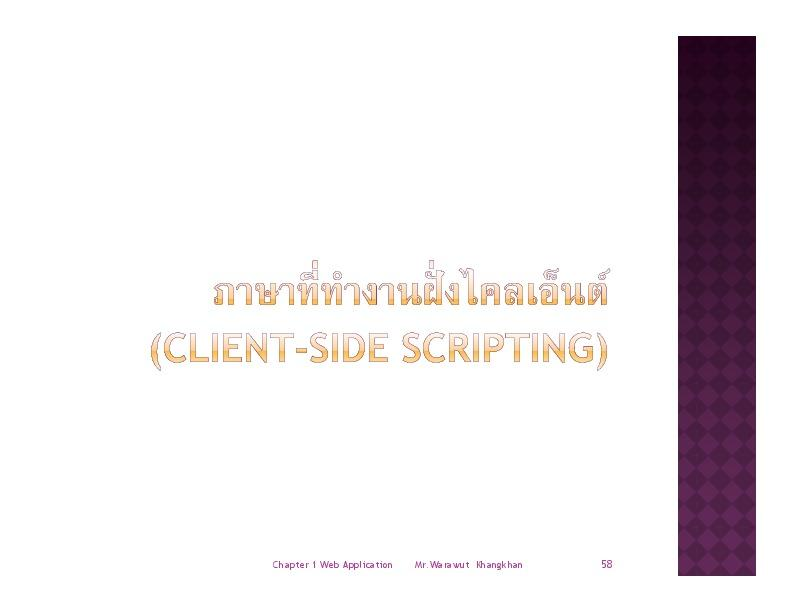subtitle: (253, 532, 647, 588)
title: (117, 248, 626, 390)
